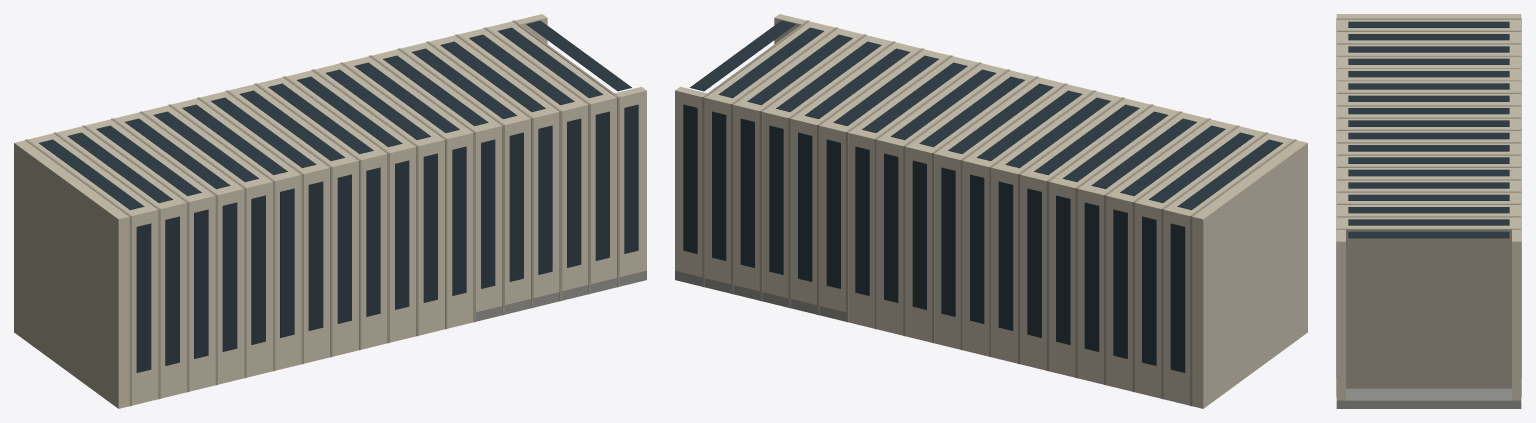
The model's file is tw_fallen_section_lod1.glb.
3 renders of one model, left to right at view 1: azimuth 30°, elevation 25°; view 2: azimuth 150°, elevation 25°; view 3: azimuth 270°, elevation 25°, orthographic. The views are drawn at different scales.
Parts seen in each view (by area): view 1: tw_fallen_section_lod1; view 2: tw_fallen_section_lod1; view 3: tw_fallen_section_lod1.
Boxes of the visible parts, <box> form: tw_fallen_section_lod1: <box>14,14,646,408</box>; tw_fallen_section_lod1: <box>675,14,1307,408</box>; tw_fallen_section_lod1: <box>1336,14,1521,408</box>.
Size of the model in its own units: 70 by 24.04 by 24.08.
Materials: 1 (1 with a texture image).
